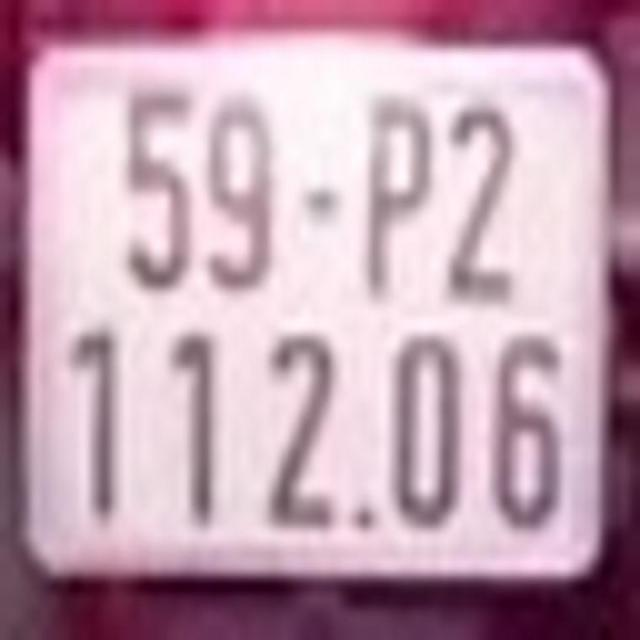0: (389, 322, 462, 532)
1: (167, 326, 227, 526), (66, 332, 128, 522)
2: (268, 322, 336, 535), (452, 105, 516, 298)
5: (130, 96, 193, 290)
6: (494, 326, 570, 540)
9: (211, 95, 271, 292)
P: (366, 94, 431, 300)
